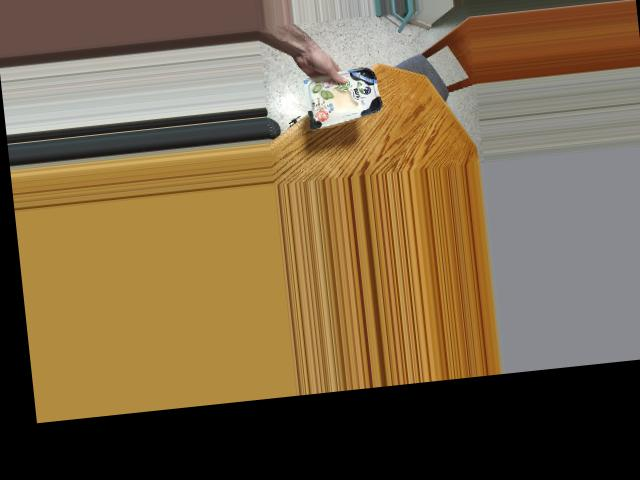cheese: (301, 56, 381, 131)
